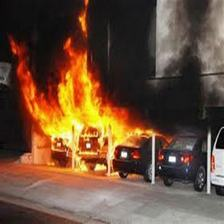fire: (11, 20, 178, 178)
